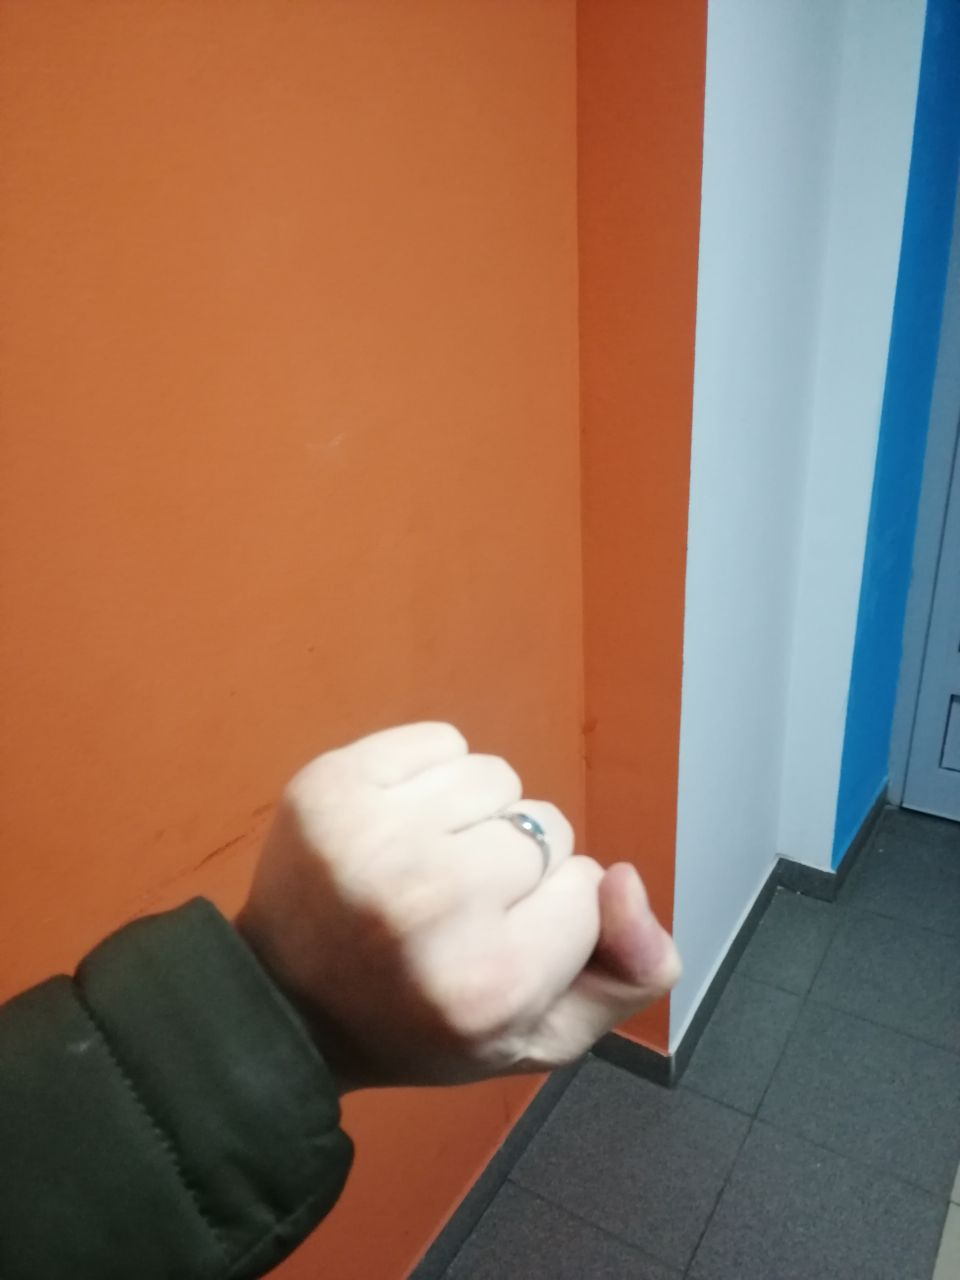hand: (302, 738, 635, 1075)
